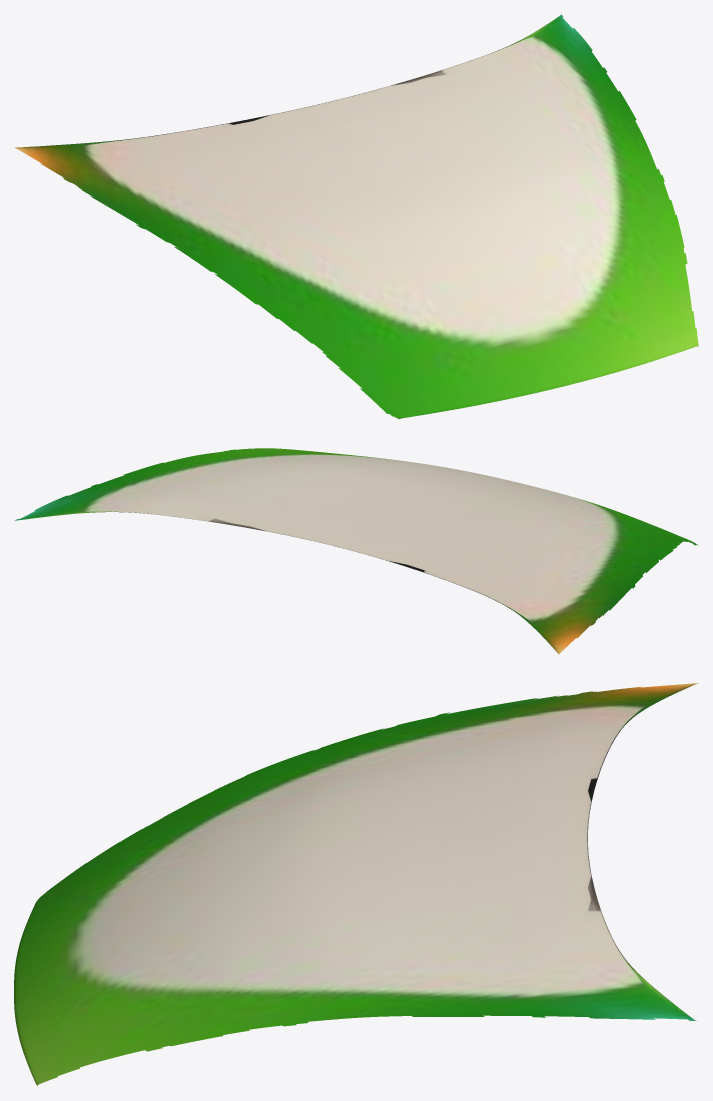
Rendered from Cofre.obj.
The picture shows the model from 3 angles, top to bottom: view 1: azimuth 30°, elevation 25°; view 2: azimuth 150°, elevation 25°; view 3: azimuth 270°, elevation 25°; orthographic projection. The views are drawn at different scales.
Visible parts, largest first — view 1: Cofre2; view 2: Cofre2; view 3: Cofre2.
Part boxes in pixels (bbox=[...]): Cofre2: bbox=[15, 14, 698, 418]; Cofre2: bbox=[14, 448, 698, 654]; Cofre2: bbox=[14, 683, 698, 1085].
Bounding box in the file's own units: 3.56 × 0.7641 × 3.04.
Materials: 1 (1 with a texture image).
